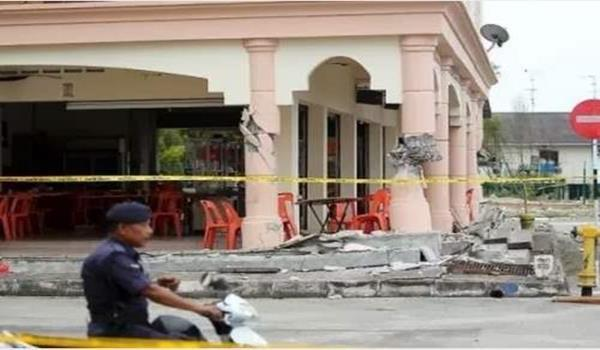spalling: (388, 134, 442, 167), (239, 108, 268, 161)
